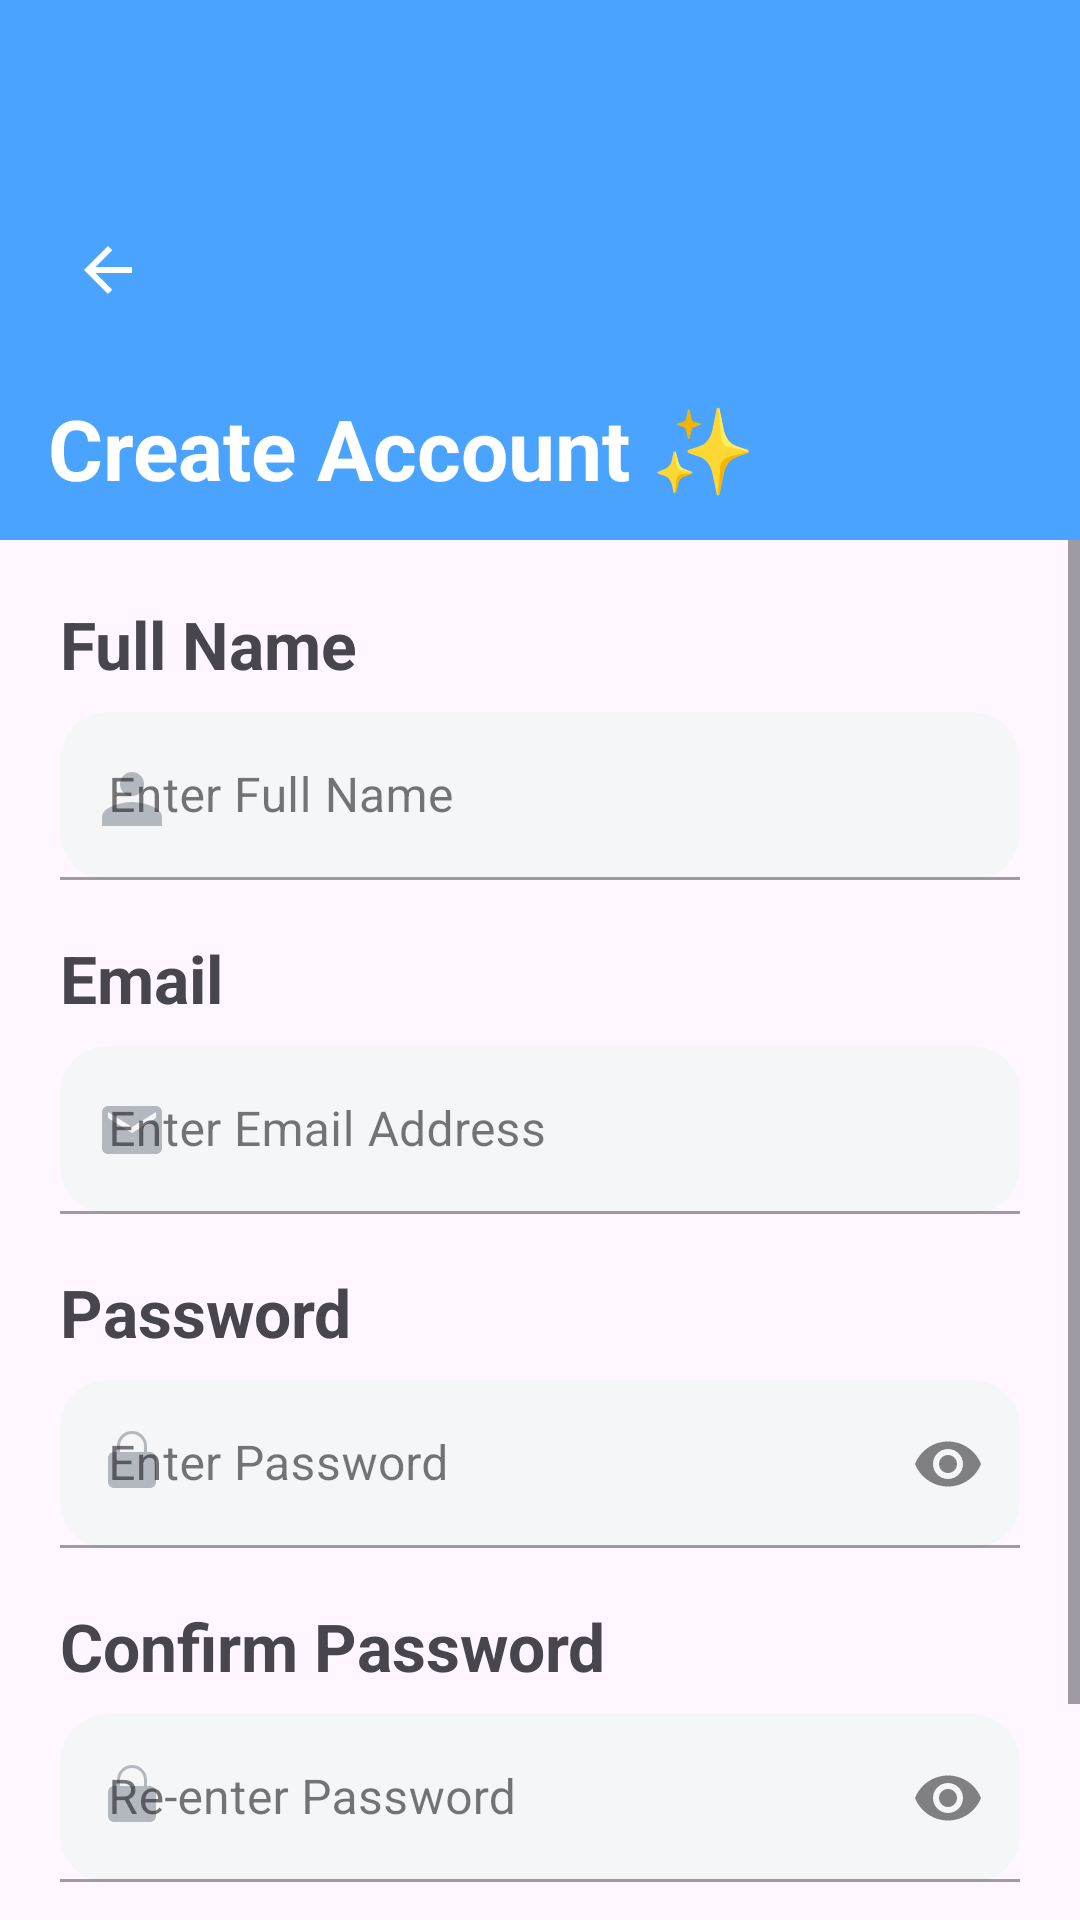

Icons on this 1080px x 1920px Android screen, each with the point to tap as (x=x, y=y):
Back: (x=108, y=270)
